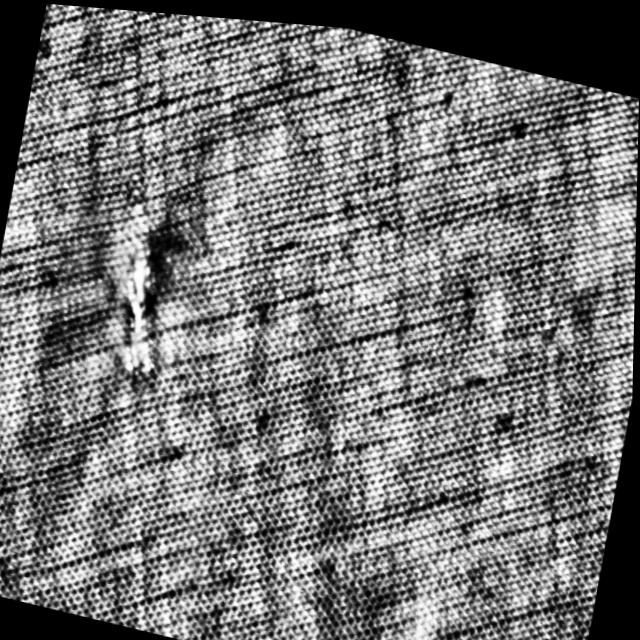Hole: (91, 175, 189, 392)
